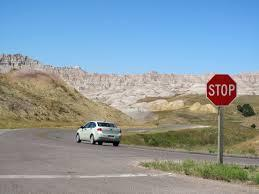Pole: (217, 108, 224, 165)
Sign: (206, 74, 237, 107)
